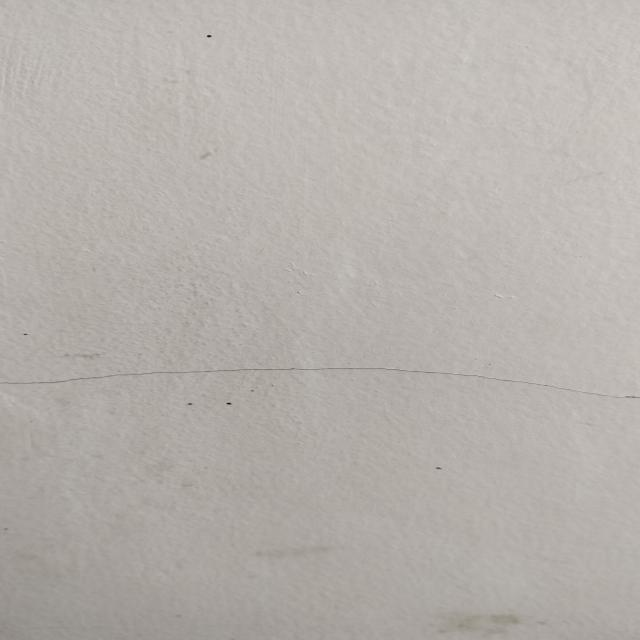Crack: (2, 365, 640, 401)
